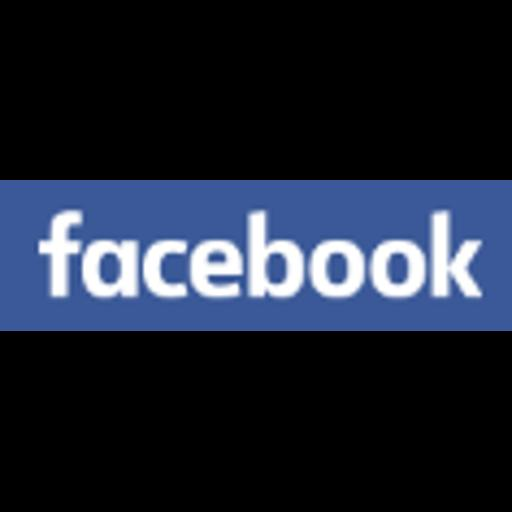Facebook: (0, 180, 512, 331)
